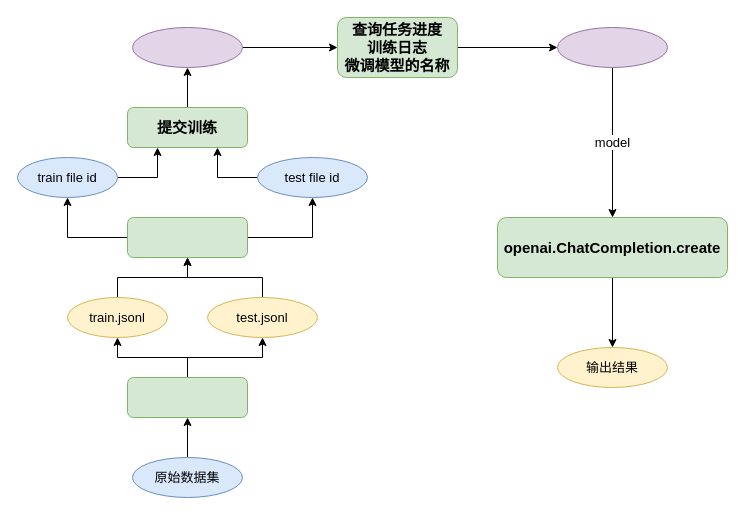
Some shapes in this 745 by 515 pixel diagram are drawn without their labels. Each missing label, with the centre of its shape:
"上传文件到openai" goes at point 187,237.
"模型名称" goes at point 612,47.
"训练任务id" goes at point 187,47.
"预处理" goes at point 187,397.
